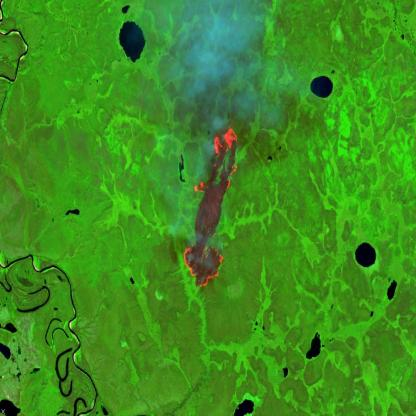fire: (182, 123, 241, 291)
